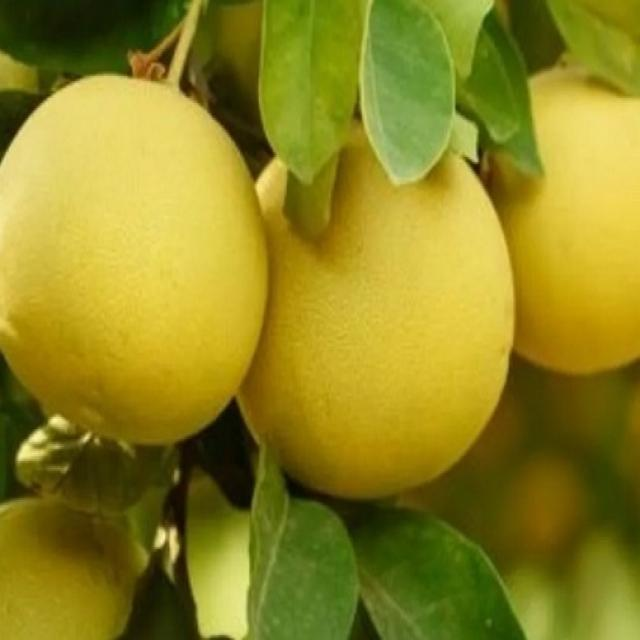Orange: (220, 111, 520, 518), (0, 76, 272, 445), (464, 41, 638, 388), (0, 495, 172, 640)
